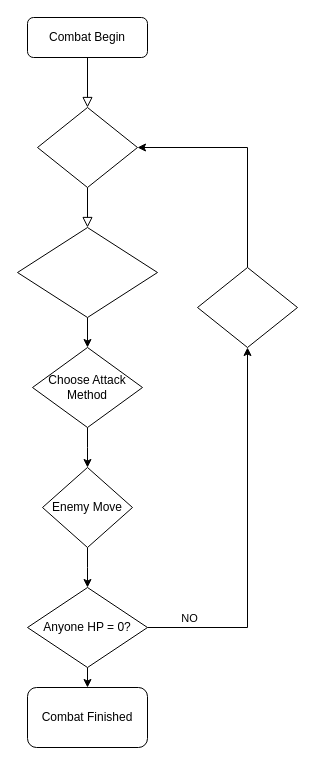
This 315x765 diagram has some shape labels left out. The shapes that lost their labels are listed below. From the top down, each one's centre as x and y in pixels, then its label:
pixel 87 147: Player Move
pixel 87 272: Use Smoothies？(Optional)
pixel 247 307: Player Defend
